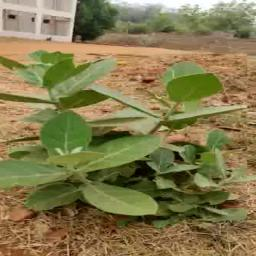CALOTROPIS: (0, 54, 248, 221)
